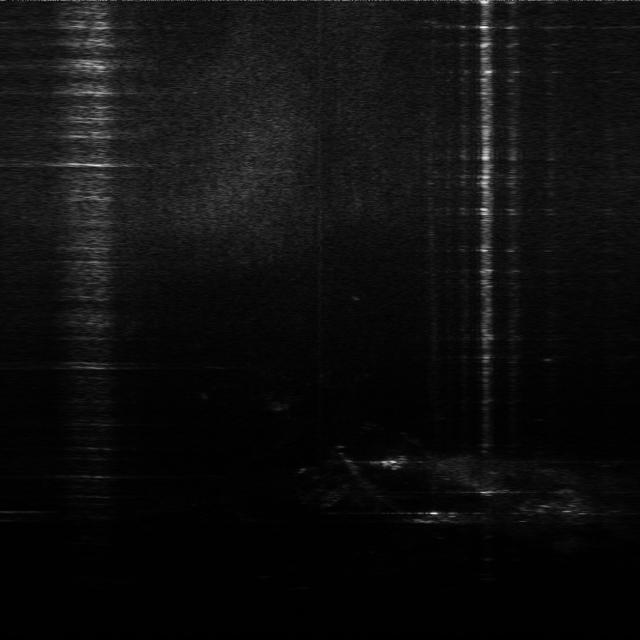rov: (378, 453, 409, 473)
